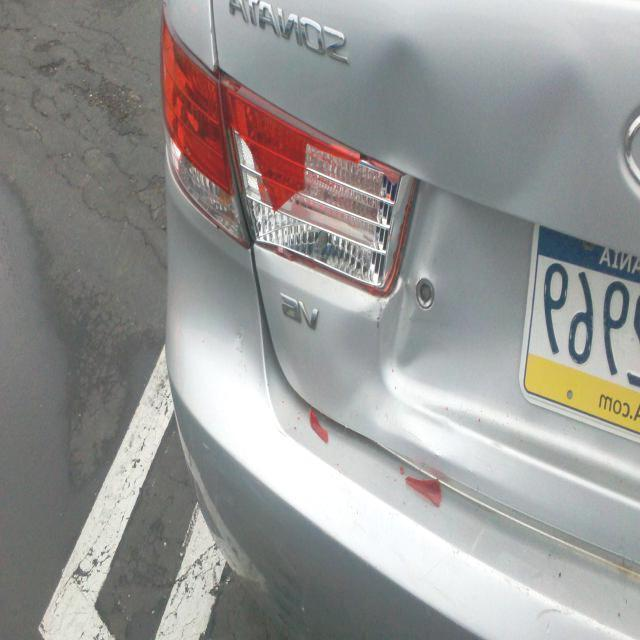minor: (343, 37, 572, 183), (315, 304, 457, 451)
moderate: (222, 72, 416, 296)
